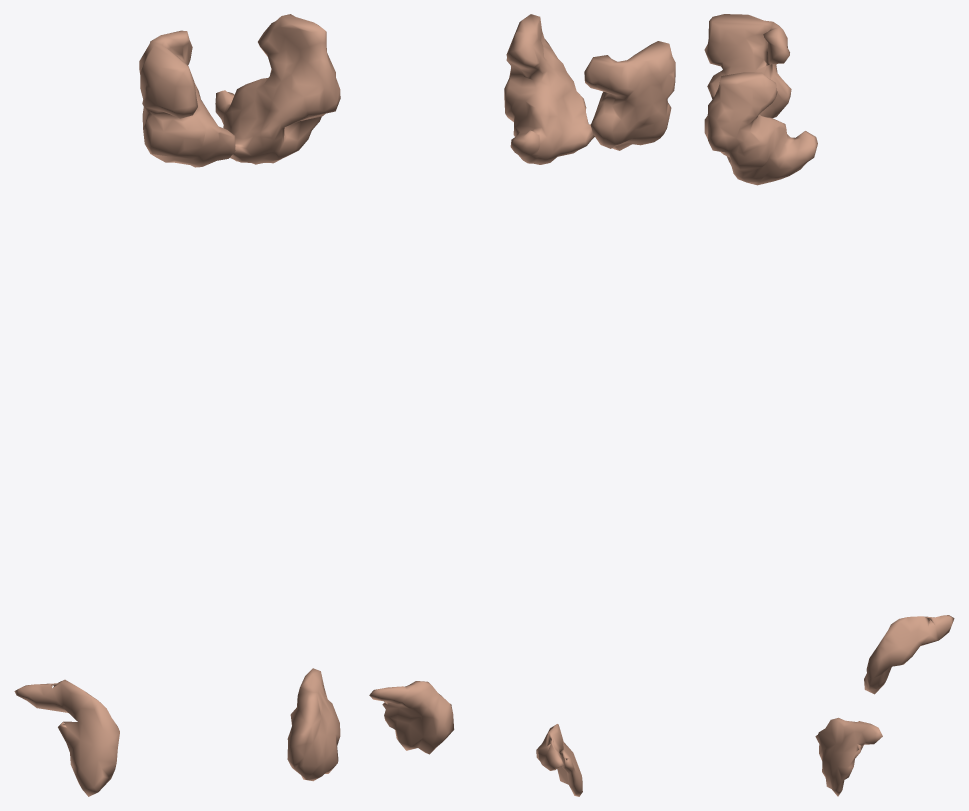
Rendered from tsd_s0327_older_adult_male.endocrine.LOD4.glb.
3 renders of one model, left to right at view 1: azimuth 30°, elevation 25°; view 2: azimuth 150°, elevation 25°; view 3: azimuth 270°, elevation 25°, orthographic. The views are drawn at different scales.
Visible parts, largest first — view 1: TSD_S0327.OLDER_ADULT.MALE.ENDOCRINE.THYROID_GLAND, TSD_S0327.OLDER_ADULT.MALE.ENDOCRINE.ADRENAL_GLAND.R, TSD_S0327.OLDER_ADULT.MALE.ENDOCRINE.ADRENAL_GLAND.L; view 2: TSD_S0327.OLDER_ADULT.MALE.ENDOCRINE.THYROID_GLAND, TSD_S0327.OLDER_ADULT.MALE.ENDOCRINE.ADRENAL_GLAND.L, TSD_S0327.OLDER_ADULT.MALE.ENDOCRINE.ADRENAL_GLAND.R; view 3: TSD_S0327.OLDER_ADULT.MALE.ENDOCRINE.THYROID_GLAND, TSD_S0327.OLDER_ADULT.MALE.ENDOCRINE.ADRENAL_GLAND.R, TSD_S0327.OLDER_ADULT.MALE.ENDOCRINE.ADRENAL_GLAND.L.
Part boxes in pixels (<box>): TSD_S0327.OLDER_ADULT.MALE.ENDOCRINE.THYROID_GLAND: <box>139,14,340,167</box>; TSD_S0327.OLDER_ADULT.MALE.ENDOCRINE.ADRENAL_GLAND.R: <box>14,679,119,796</box>; TSD_S0327.OLDER_ADULT.MALE.ENDOCRINE.ADRENAL_GLAND.L: <box>287,668,340,781</box>; TSD_S0327.OLDER_ADULT.MALE.ENDOCRINE.THYROID_GLAND: <box>504,14,675,164</box>; TSD_S0327.OLDER_ADULT.MALE.ENDOCRINE.ADRENAL_GLAND.L: <box>369,681,454,754</box>; TSD_S0327.OLDER_ADULT.MALE.ENDOCRINE.ADRENAL_GLAND.R: <box>536,724,582,796</box>; TSD_S0327.OLDER_ADULT.MALE.ENDOCRINE.THYROID_GLAND: <box>704,14,817,185</box>; TSD_S0327.OLDER_ADULT.MALE.ENDOCRINE.ADRENAL_GLAND.R: <box>864,615,954,694</box>; TSD_S0327.OLDER_ADULT.MALE.ENDOCRINE.ADRENAL_GLAND.L: <box>815,717,882,796</box>.
Size of the model in its own units: 0.1021 by 0.3004 by 0.0992.
